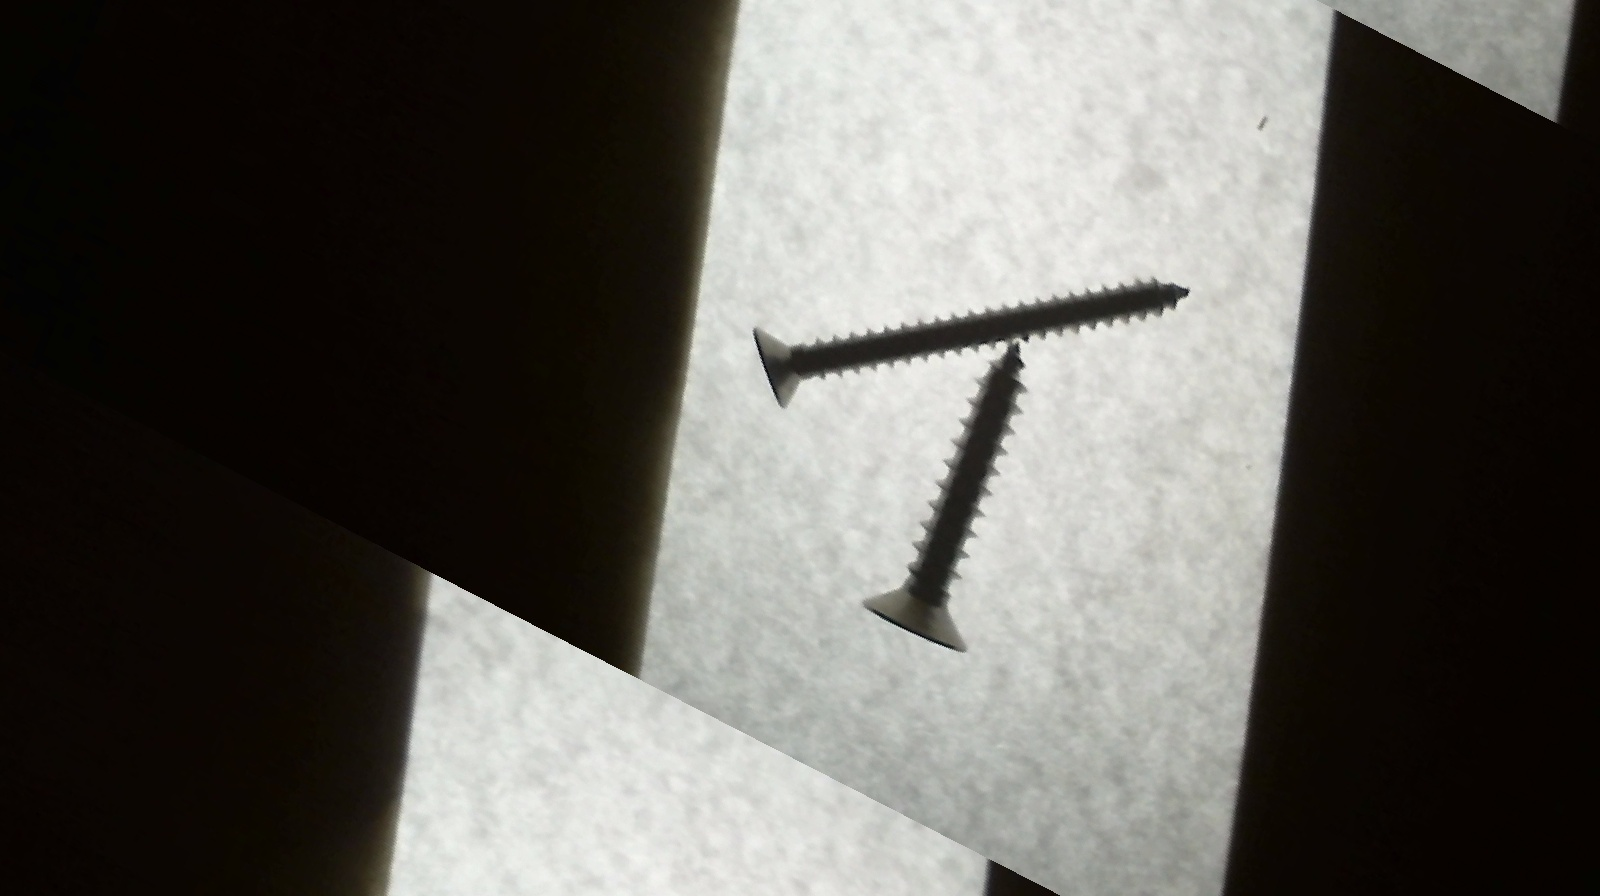S001: (851, 312, 1084, 664)
S002: (725, 98, 1204, 571)
